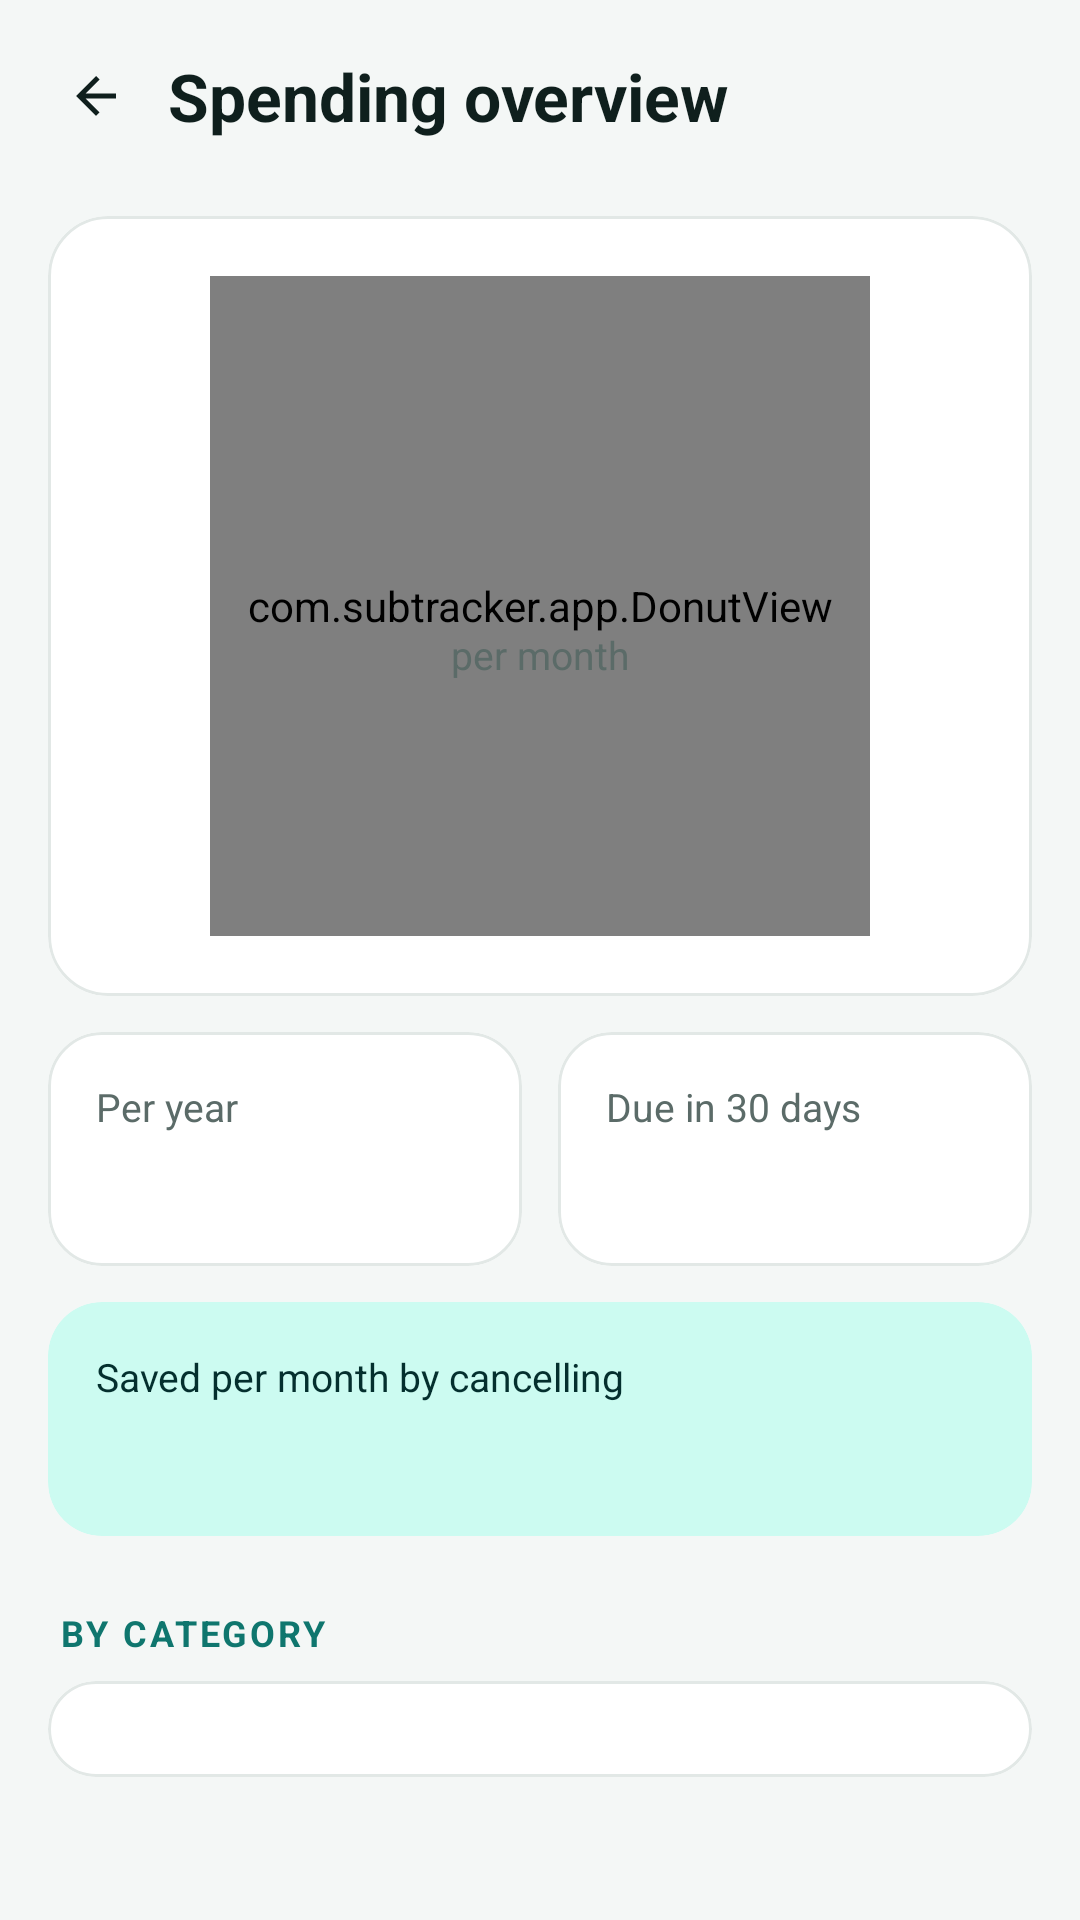

Locate icon controls on the screen. Image size 1080 x 1920, boxes as (x1,y1,x2,y2).
Back: (76,76,116,116)
